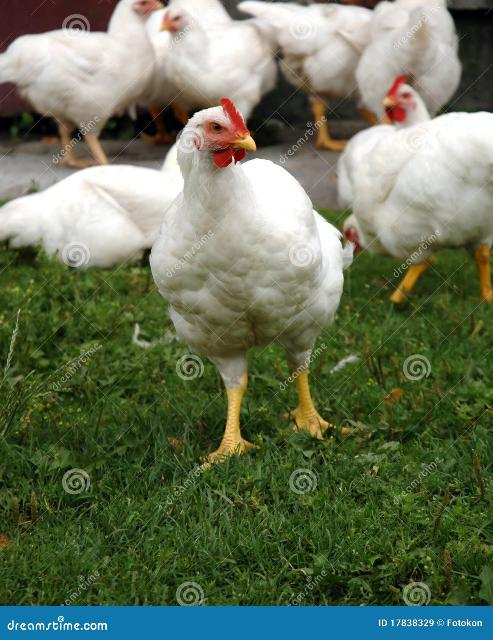Chicken: (149, 96, 346, 463), (0, 0, 169, 169), (382, 71, 493, 304), (0, 130, 183, 268), (239, 0, 377, 149), (145, 0, 280, 128), (355, 0, 462, 121), (338, 125, 398, 255)
